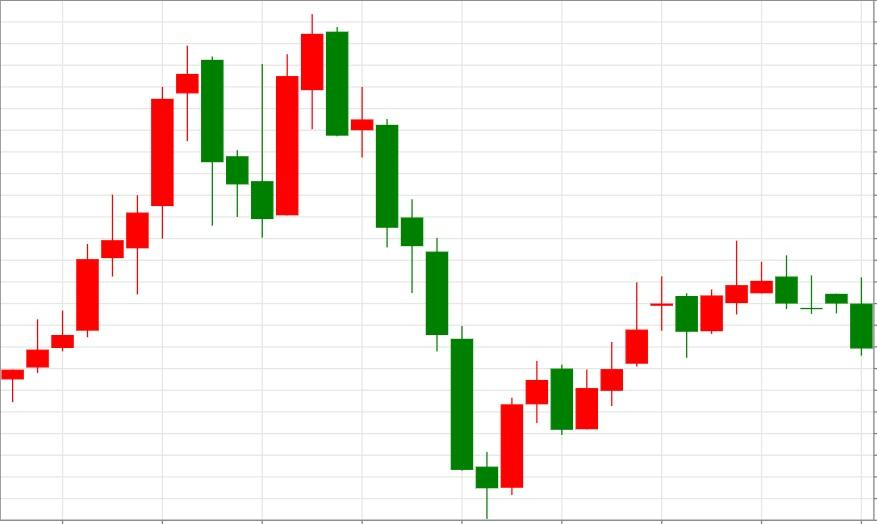inverse_hammer_rise: (175, 43, 275, 237)
morning_star_rise: (326, 27, 525, 520)
